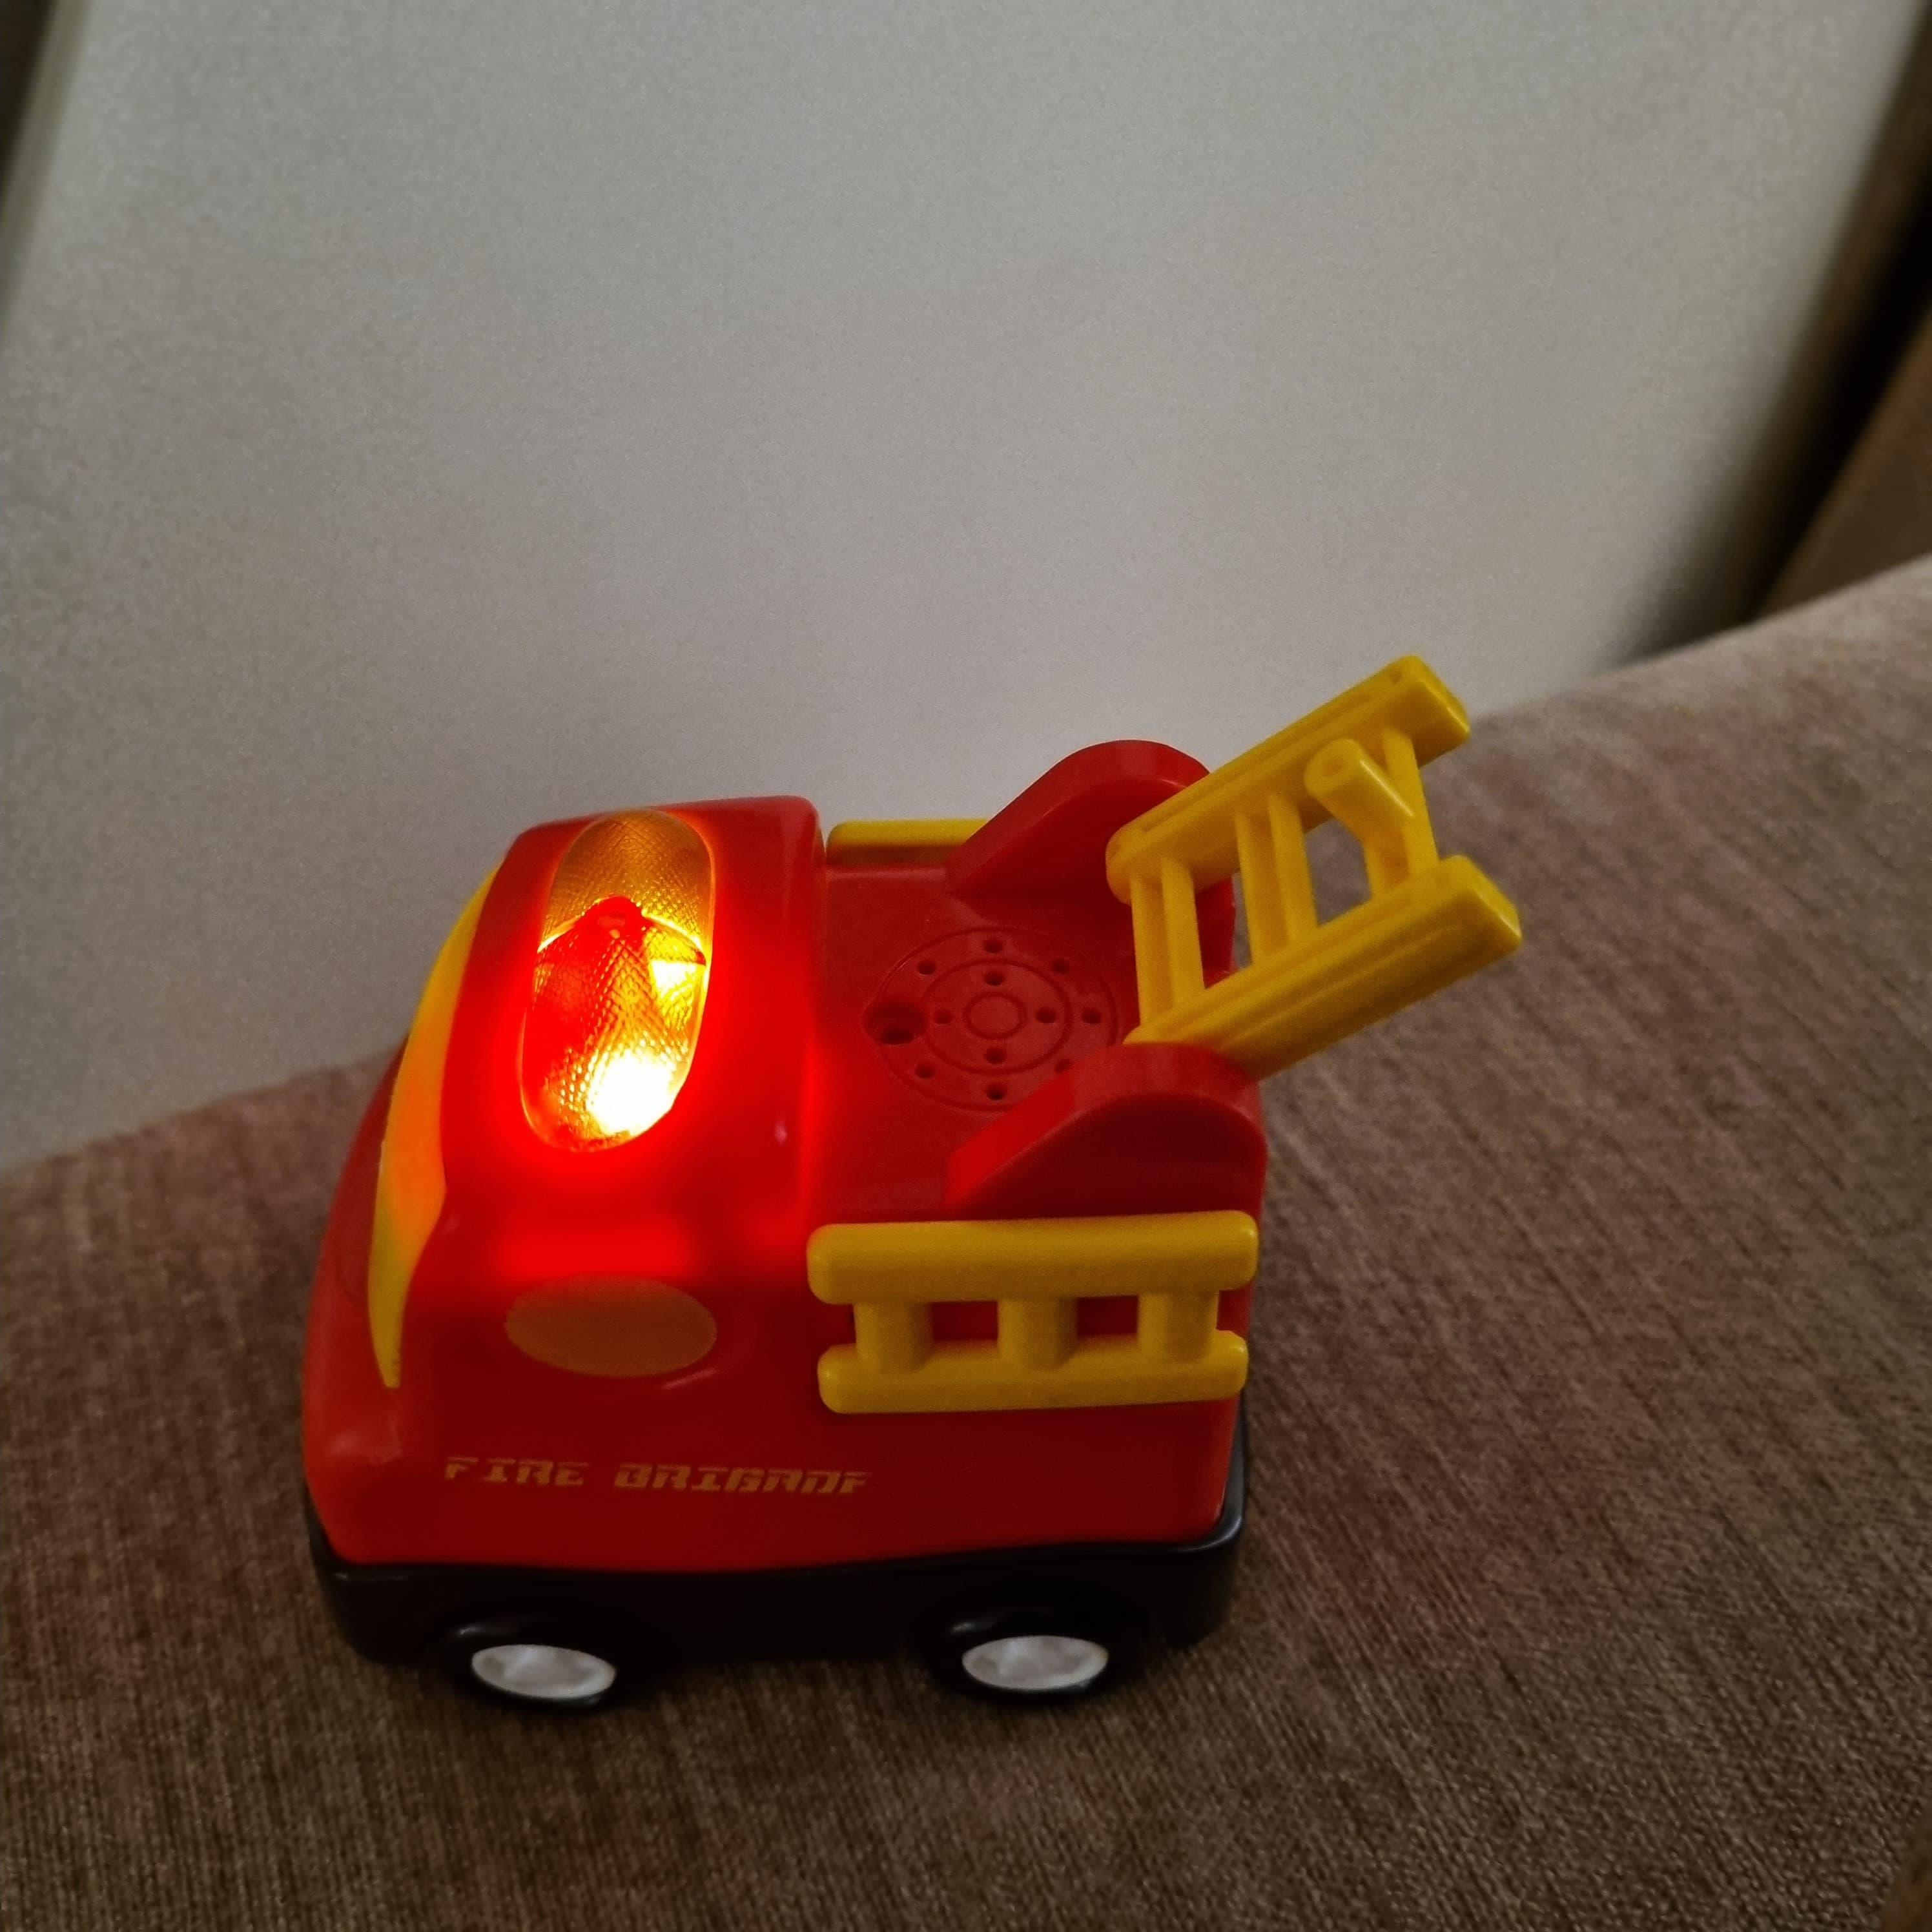firetruck_on: (294, 656, 1514, 1713)
